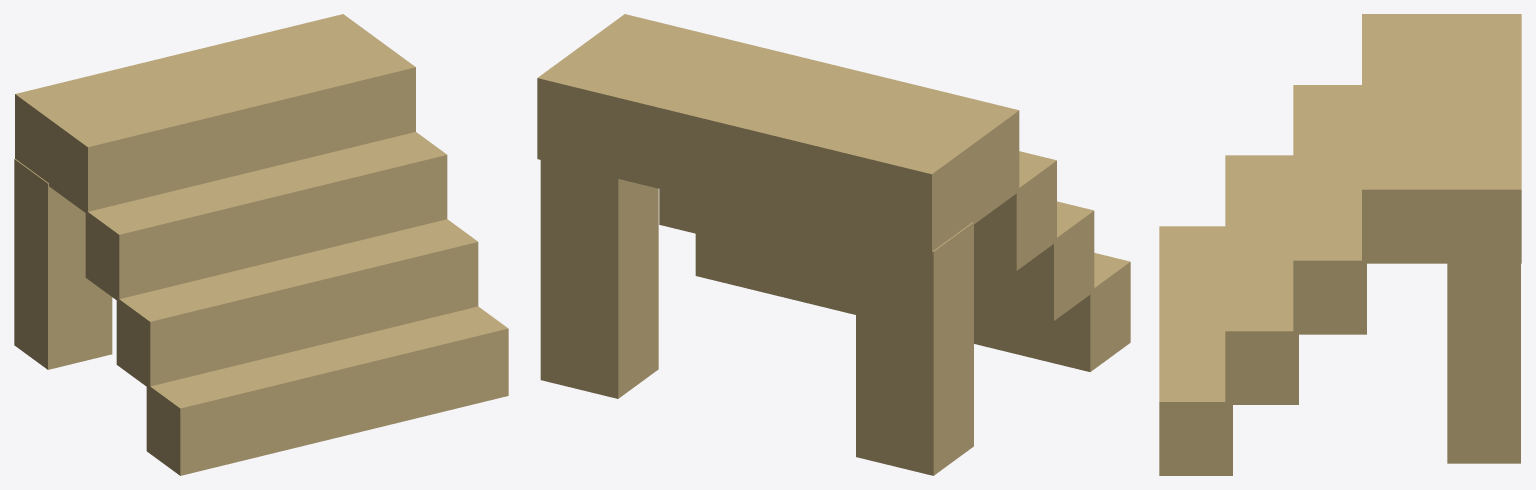
Rendered from props24.fbx.
3 views of the same model, side by side, from view 1: azimuth 30°, elevation 25°; view 2: azimuth 150°, elevation 25°; view 3: azimuth 270°, elevation 25° (orthographic). The views are drawn at different scales.
Visible parts, largest first — view 1: Cube_1; view 2: Cube_1; view 3: Cube_1.
Boxes of the visible parts, bbox=[...] form: Cube_1: bbox=[14, 14, 508, 475]; Cube_1: bbox=[537, 14, 1130, 475]; Cube_1: bbox=[1159, 14, 1521, 475].
Size of the model in its own units: 228 by 173 by 199.
